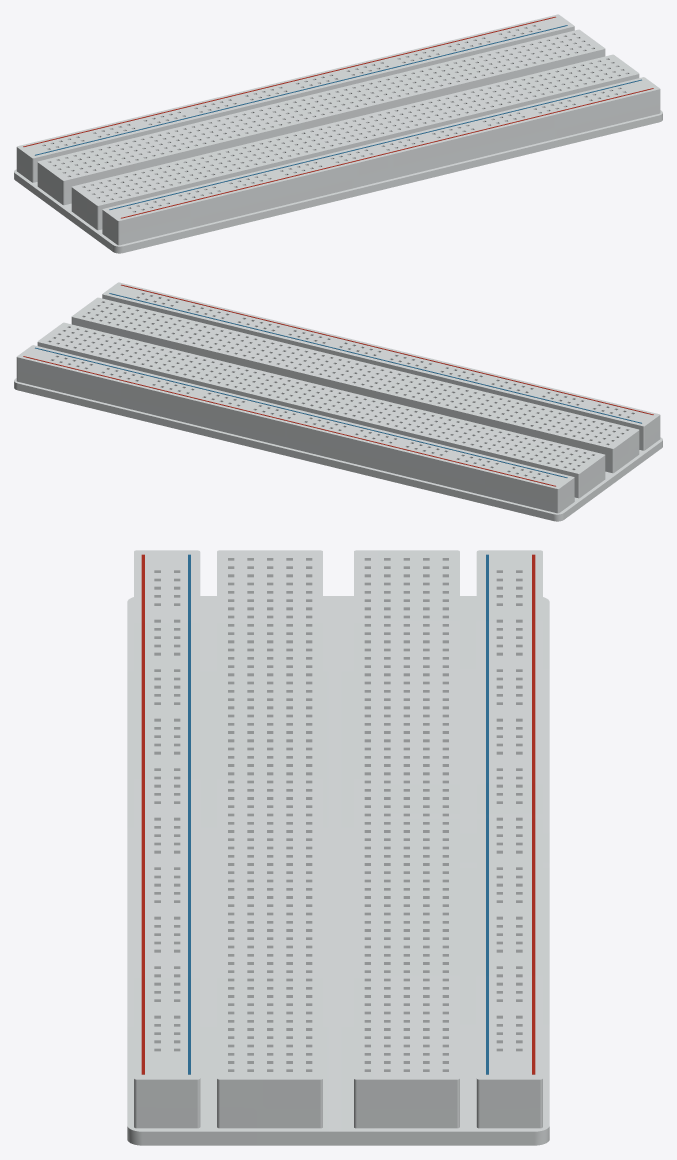
The model's file is board.glb.
The picture shows the model from 3 angles, top to bottom: view 1: azimuth 30°, elevation 25°; view 2: azimuth 150°, elevation 25°; view 3: azimuth 270°, elevation 25°; orthographic projection. The views are drawn at different scales.
Parts seen in each view (by area): view 1: Power_socket_bank_-1, Terminal_socket_bank_1, Terminal_socket_bank_-1, Power_socket_bank_1, Breadboard_base, Rail_stripe_1_1, Rail_stripe_1_0, Rail_stripe_-1_0, Rail_stripe_-1_1; view 2: Power_socket_bank_1, Terminal_socket_bank_-1, Terminal_socket_bank_1, Power_socket_bank_-1, Breadboard_base, Rail_stripe_-1_1, Rail_stripe_-1_0, Rail_stripe_1_0, Rail_stripe_1_1; view 3: Terminal_socket_bank_1, Terminal_socket_bank_-1, Breadboard_base, Power_socket_bank_1, Power_socket_bank_-1, Rail_stripe_1_1, Rail_stripe_-1_1, Rail_stripe_1_0, Rail_stripe_-1_0.
Part boxes in pixels (left/top/right/bottom): Power_socket_bank_-1: left=102, top=77, right=660, bottom=245; Terminal_socket_bank_1: left=37, top=29, right=605, bottom=205; Terminal_socket_bank_-1: left=71, top=54, right=639, bottom=230; Power_socket_bank_1: left=16, top=14, right=574, bottom=182; Breadboard_base: left=14, top=110, right=662, bottom=253; Rail_stripe_1_1: left=23, top=16, right=555, bottom=146; Rail_stripe_1_0: left=35, top=25, right=567, bottom=155; Rail_stripe_-1_0: left=109, top=79, right=641, bottom=209; Rail_stripe_-1_1: left=121, top=88, right=653, bottom=218; Power_socket_bank_1: left=16, top=345, right=574, bottom=513; Terminal_socket_bank_-1: left=71, top=297, right=639, bottom=473; Terminal_socket_bank_1: left=37, top=322, right=605, bottom=498; Power_socket_bank_-1: left=102, top=282, right=660, bottom=450; Breadboard_base: left=14, top=378, right=662, bottom=521; Rail_stripe_-1_1: left=121, top=284, right=653, bottom=414; Rail_stripe_-1_0: left=109, top=293, right=641, bottom=423; Rail_stripe_1_0: left=35, top=347, right=567, bottom=477; Rail_stripe_1_1: left=23, top=356, right=555, bottom=486; Terminal_socket_bank_1: left=354, top=550, right=459, bottom=1128; Terminal_socket_bank_-1: left=217, top=550, right=322, bottom=1128; Breadboard_base: left=127, top=596, right=549, bottom=1145; Power_socket_bank_1: left=476, top=550, right=542, bottom=1128; Power_socket_bank_-1: left=134, top=550, right=200, bottom=1128; Rail_stripe_1_1: left=532, top=554, right=535, bottom=1074; Rail_stripe_-1_1: left=141, top=554, right=144, bottom=1074; Rail_stripe_1_0: left=486, top=554, right=488, bottom=1074; Rail_stripe_-1_0: left=188, top=554, right=190, bottom=1074.
Size of the model in its own units: 0.165 by 0.00906 by 0.055.
3 materials, 3 textured.
